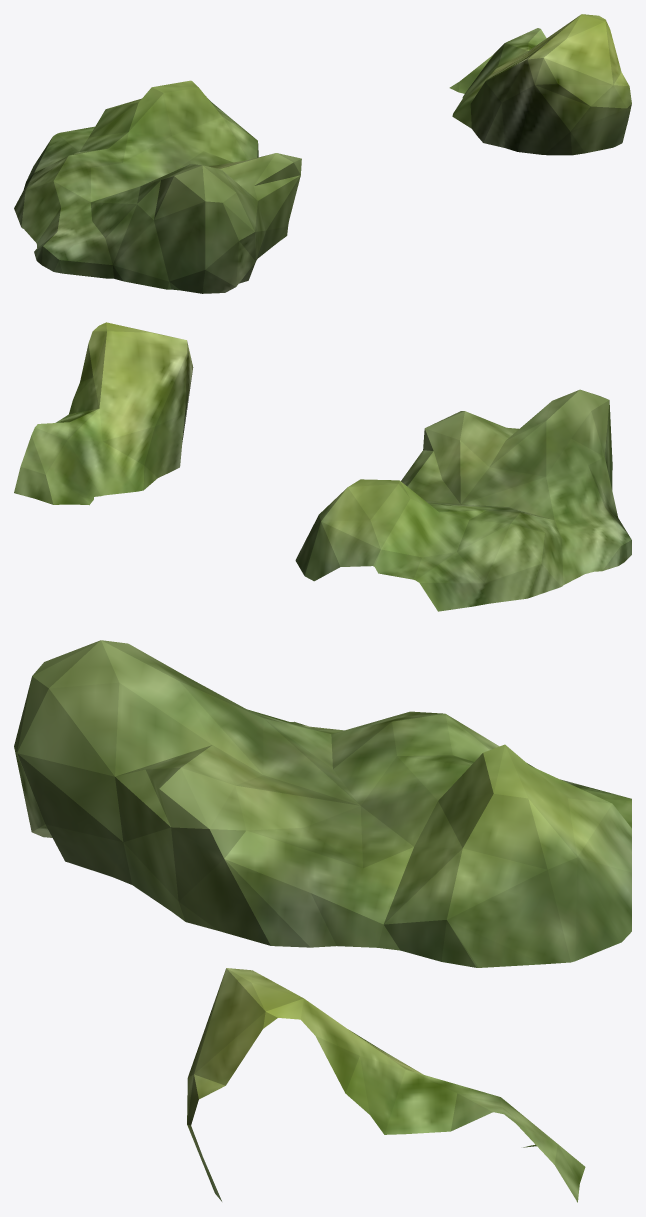
3 views of the same model, one above another, from view 1: azimuth 30°, elevation 25°; view 2: azimuth 150°, elevation 25°; view 3: azimuth 270°, elevation 25° (orthographic). The views are drawn at different scales.
Size of the model in its own units: 1.82 by 0.3594 by 1.04.
Materials: 1 (1 with a texture image).
